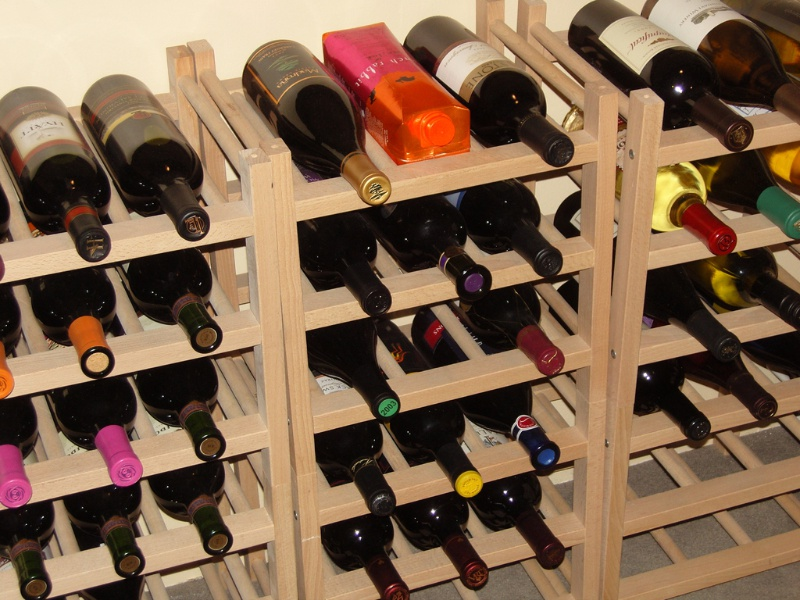wine: (1, 6, 795, 600)
